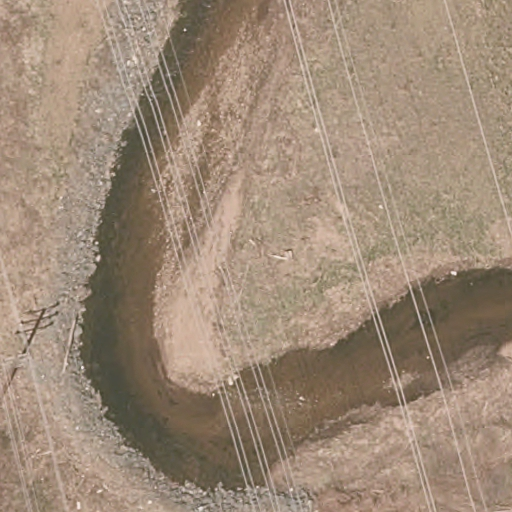DT: (1, 351, 29, 399)
